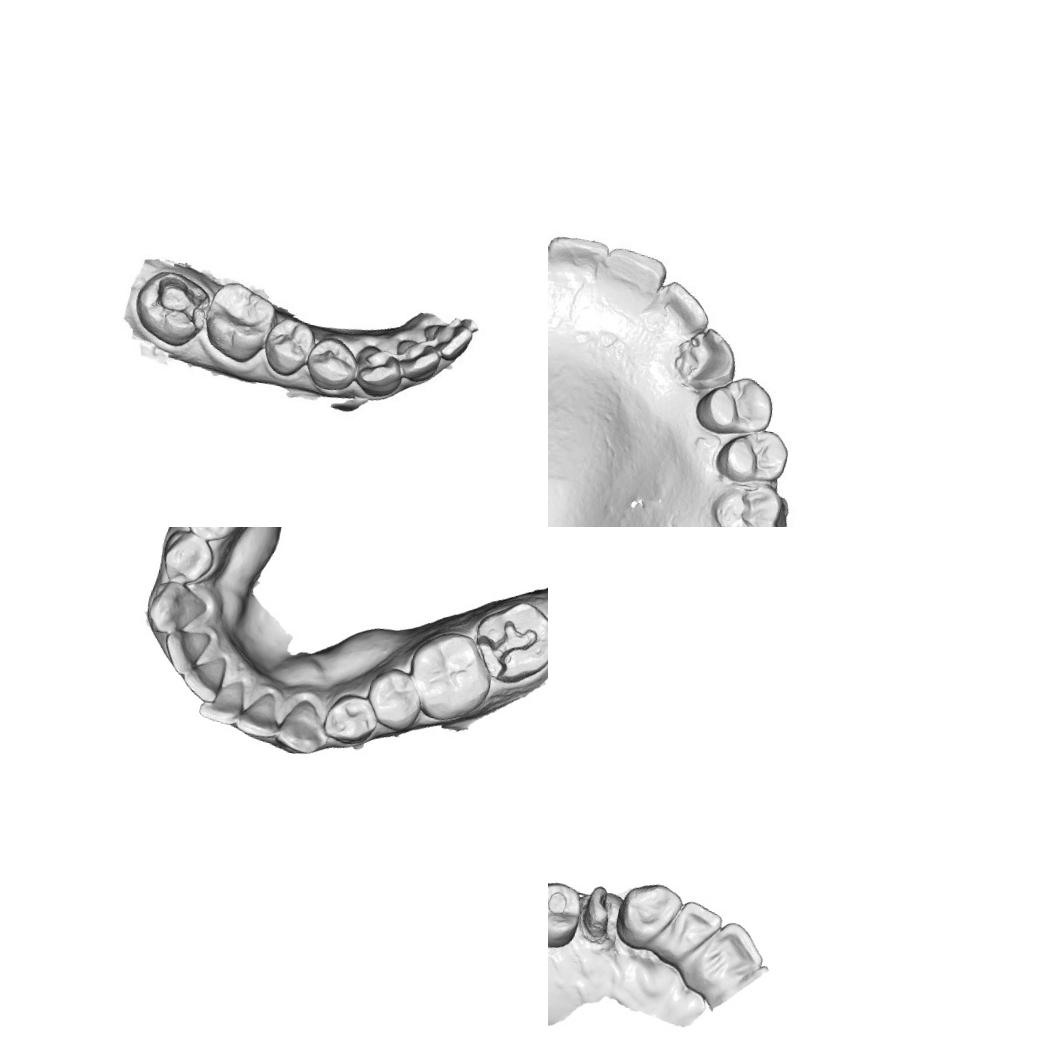canine: (611, 876, 686, 956), (673, 322, 744, 396), (141, 574, 210, 642), (272, 694, 332, 759), (348, 340, 404, 399)
crown: (574, 881, 618, 946)
incisor: (694, 915, 771, 991), (659, 894, 725, 965), (598, 245, 667, 310), (230, 685, 286, 744), (194, 672, 252, 728), (158, 623, 213, 680), (653, 282, 709, 336), (177, 648, 229, 706), (548, 231, 608, 281), (388, 334, 442, 385), (416, 318, 472, 364)
inlay: (468, 611, 546, 688), (142, 268, 212, 332)
molar: (398, 625, 500, 730), (195, 276, 276, 364), (706, 478, 783, 527)
premolar: (713, 424, 792, 490), (358, 662, 426, 736), (157, 527, 220, 592), (703, 374, 771, 433), (318, 688, 384, 748), (260, 312, 316, 381), (302, 331, 360, 395), (548, 877, 584, 953), (174, 527, 248, 546)
